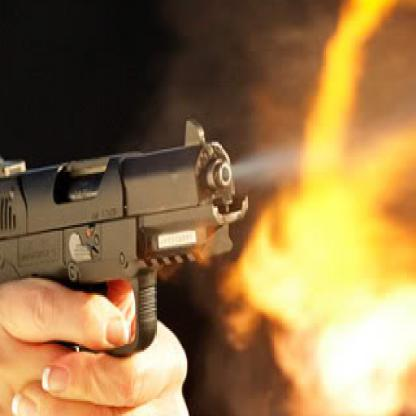gun: (0, 102, 256, 414)
